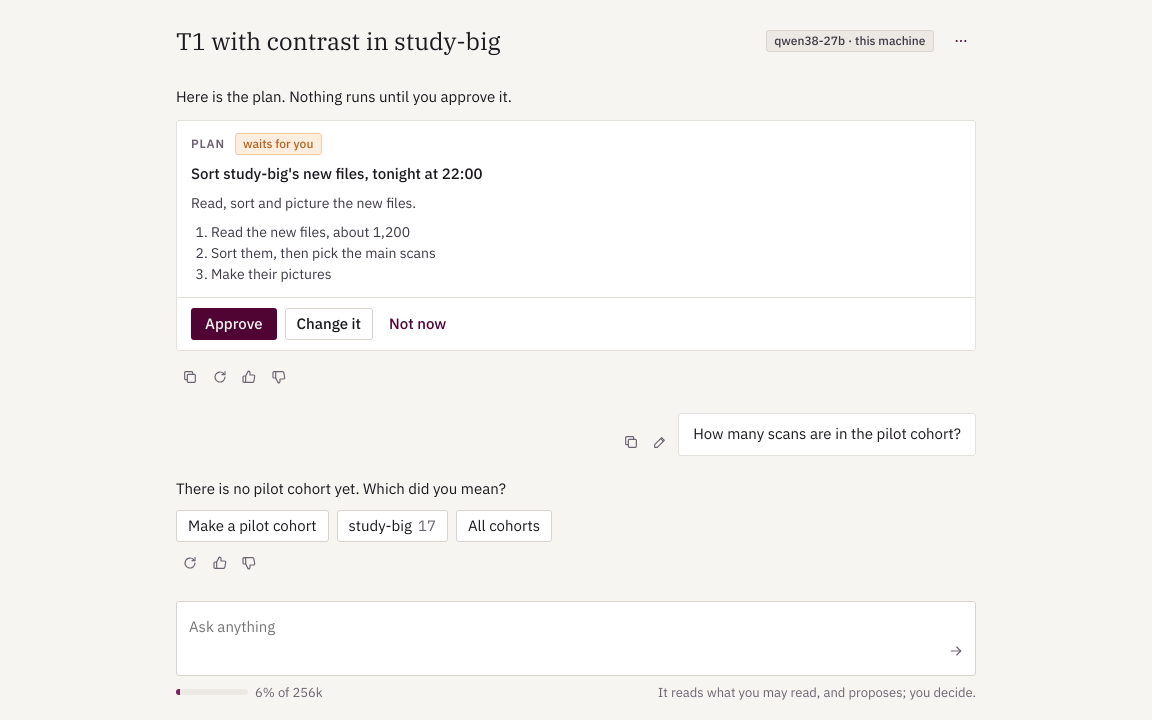
Scenario: what waits for the person › is a plan card: its kind, waits for you, its steps, and Approve, Change it and Not now
(page scrolled)
Click the button "Change it": (329, 324) left=285, top=308, right=373, bottom=340
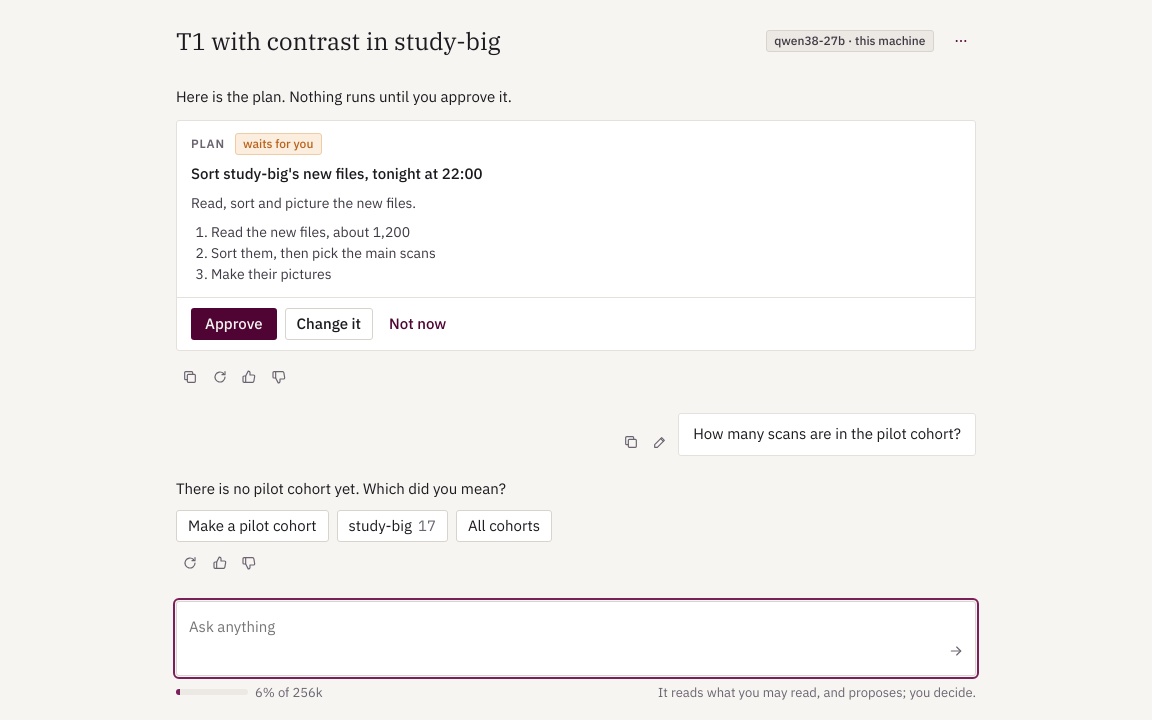
Click the button "Approve": (234, 324) left=191, top=308, right=277, bottom=340
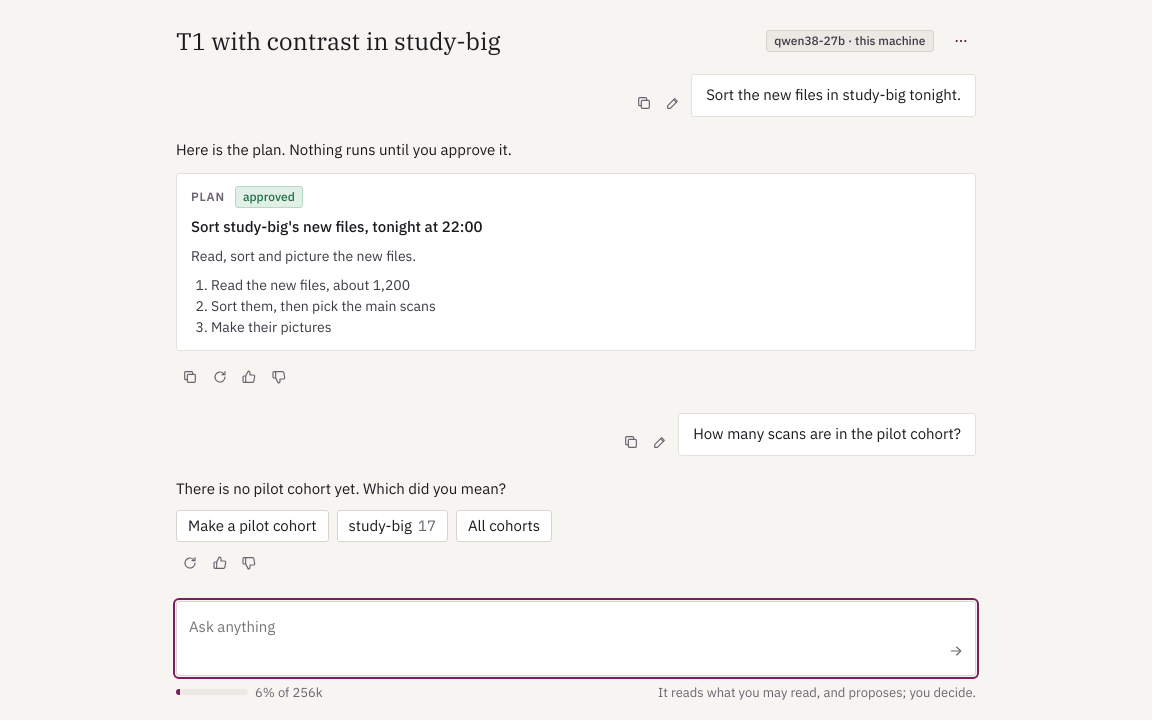
Expected: the element with class "approval-foot" is gone
